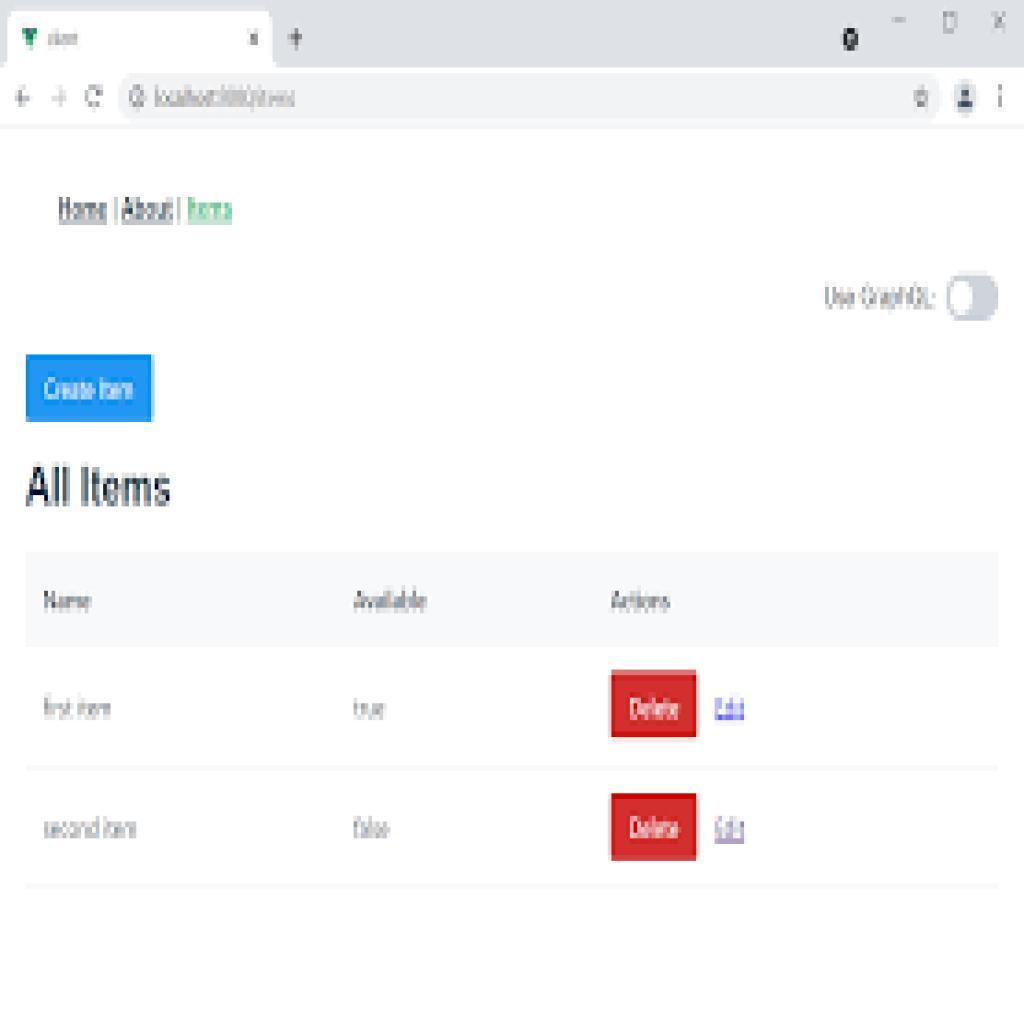button: (27, 355, 151, 420), (611, 792, 700, 863), (610, 670, 698, 738)
icon: (954, 81, 981, 116), (80, 82, 109, 111), (911, 85, 937, 115), (990, 10, 1015, 38), (838, 28, 863, 55), (14, 84, 37, 112), (287, 27, 311, 53), (942, 8, 964, 35), (991, 84, 1011, 113), (50, 85, 71, 112), (891, 8, 912, 33), (250, 30, 268, 52)
label: (22, 454, 178, 515), (818, 280, 939, 318)
switch: (948, 274, 1001, 323)
table: (27, 550, 998, 887)
